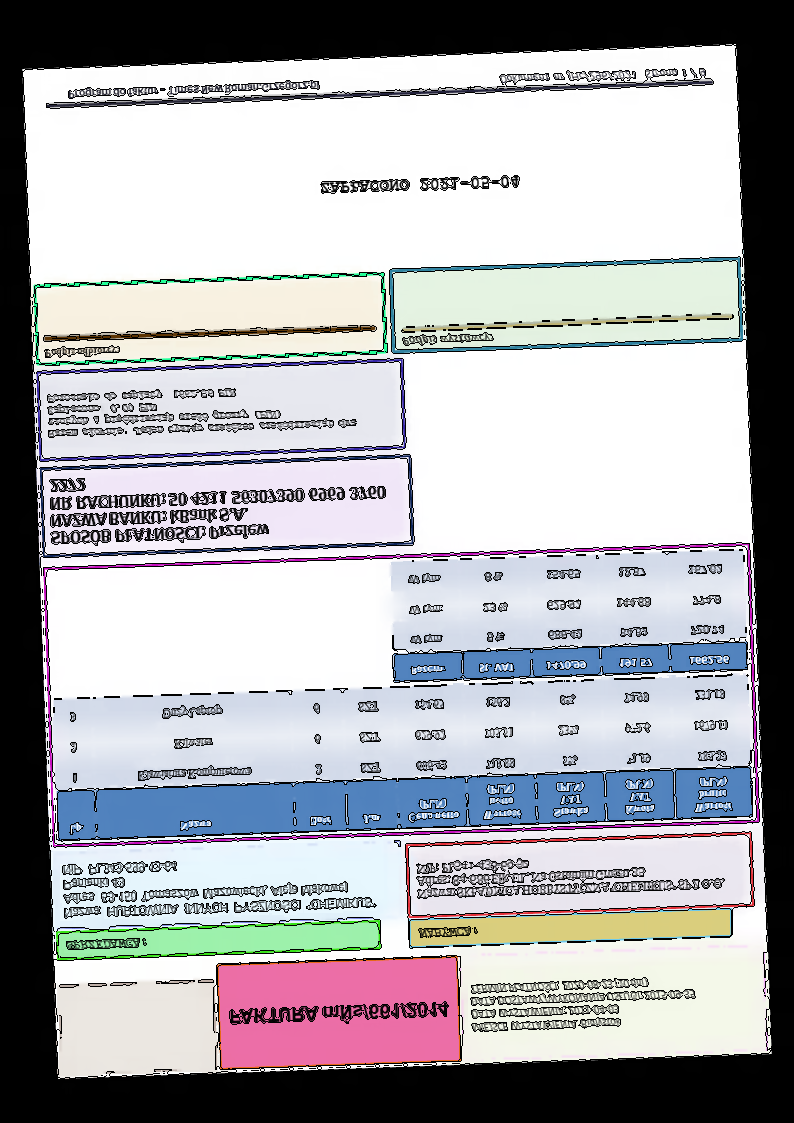Table: (52, 673, 754, 842), (388, 548, 749, 684)
TextBox: (46, 465, 388, 548), (60, 851, 379, 922), (44, 381, 359, 442), (414, 849, 727, 903), (468, 975, 698, 1035), (228, 1000, 451, 1029), (66, 77, 321, 101), (319, 172, 522, 197), (497, 65, 707, 87), (400, 331, 495, 348), (64, 936, 148, 952), (43, 344, 120, 361), (416, 925, 479, 939)
